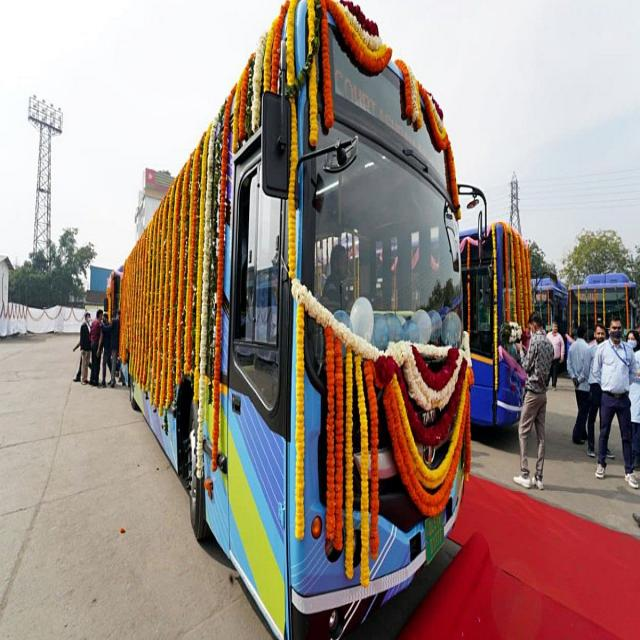bus: (116, 25, 481, 639)
